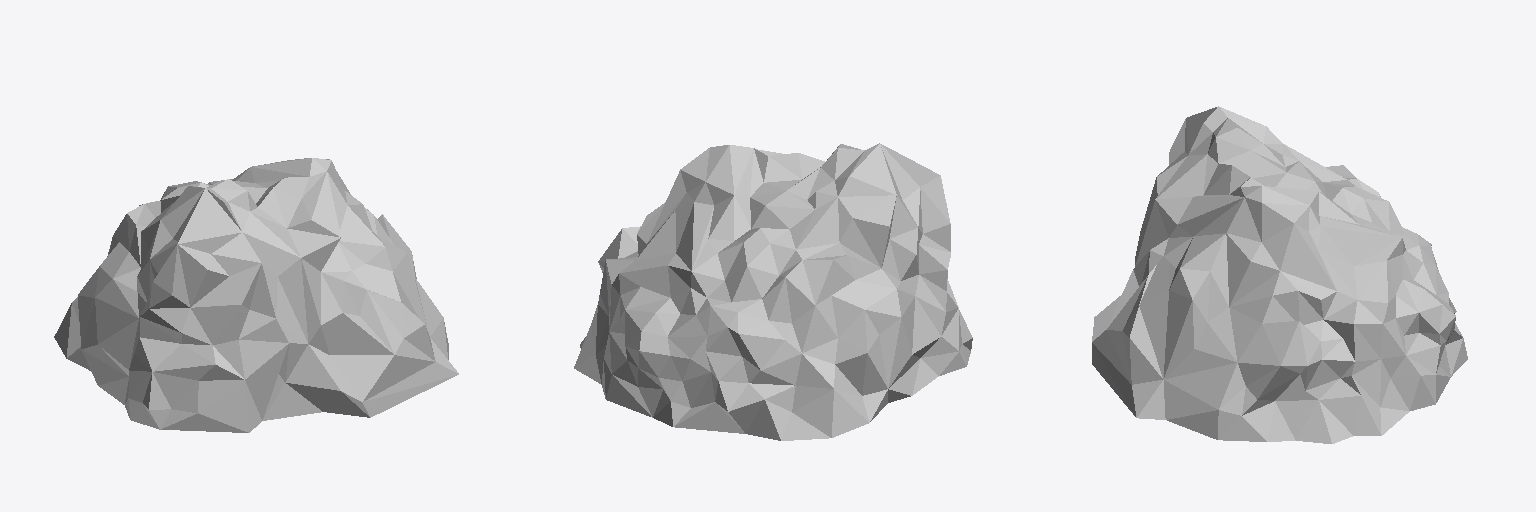
The model's file is Rock02_01.obj.
The picture shows the model from 3 angles: view 1: azimuth 30°, elevation 25°; view 2: azimuth 150°, elevation 25°; view 3: azimuth 270°, elevation 25°; orthographic projection.
Parts seen in each view (by area): view 1: ICO球; view 2: ICO球; view 3: ICO球.
Boxes of the visible parts, x1=… form: ICO球: x1=54, y1=158, x2=458, y2=432; ICO球: x1=574, y1=143, x2=972, y2=440; ICO球: x1=1092, y1=106, x2=1467, y2=443.
Size of the model in its own units: 2.17 by 1.41 by 2.18.